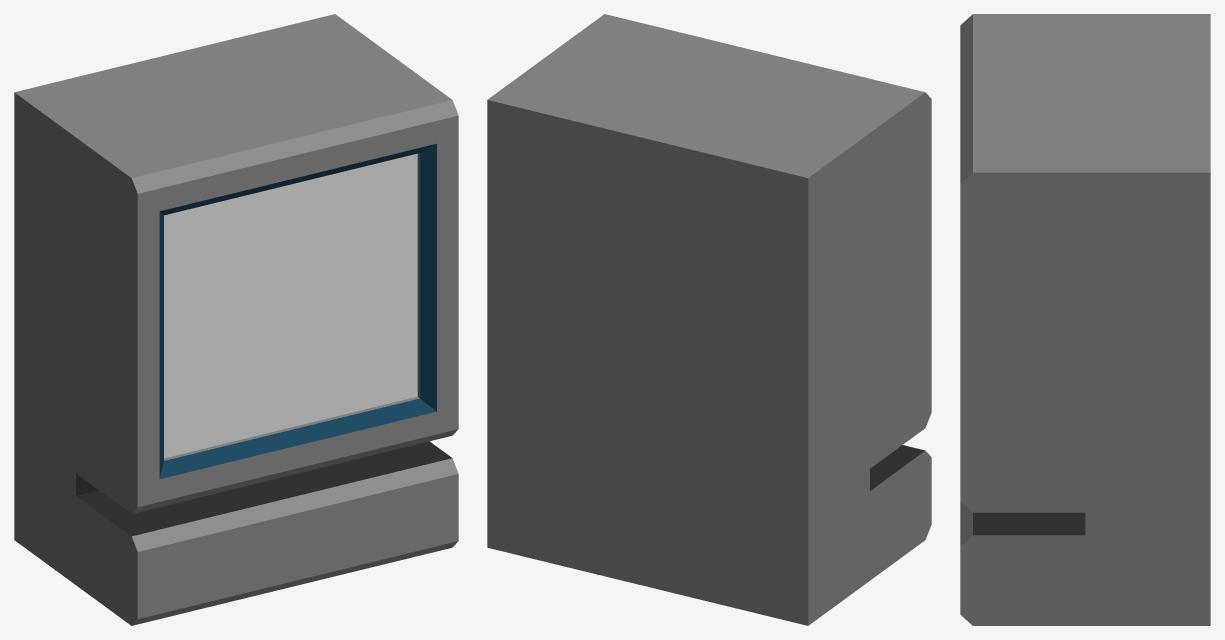
Rendered from punch_clock.glb.
The picture shows the model from 3 angles, left to right: view 1: azimuth 30°, elevation 25°; view 2: azimuth 150°, elevation 25°; view 3: azimuth 270°, elevation 25°; orthographic projection.
Visible parts, largest first — view 1: punch_clock; view 2: punch_clock; view 3: punch_clock.
Boxes of the visible parts, left/top/right/bottom form: punch_clock: left=14, top=14, right=458, bottom=625; punch_clock: left=487, top=14, right=931, bottom=625; punch_clock: left=960, top=14, right=1210, bottom=625.
Size of the model in its own units: 0.3 by 0.4 by 0.2.
2 materials, 1 textured.
